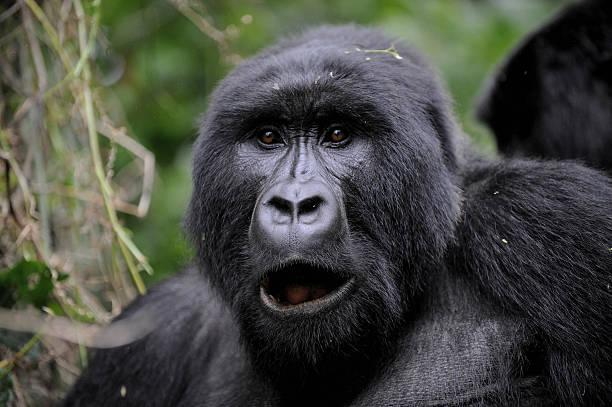goriile_montagne: (86, 0, 612, 407)
